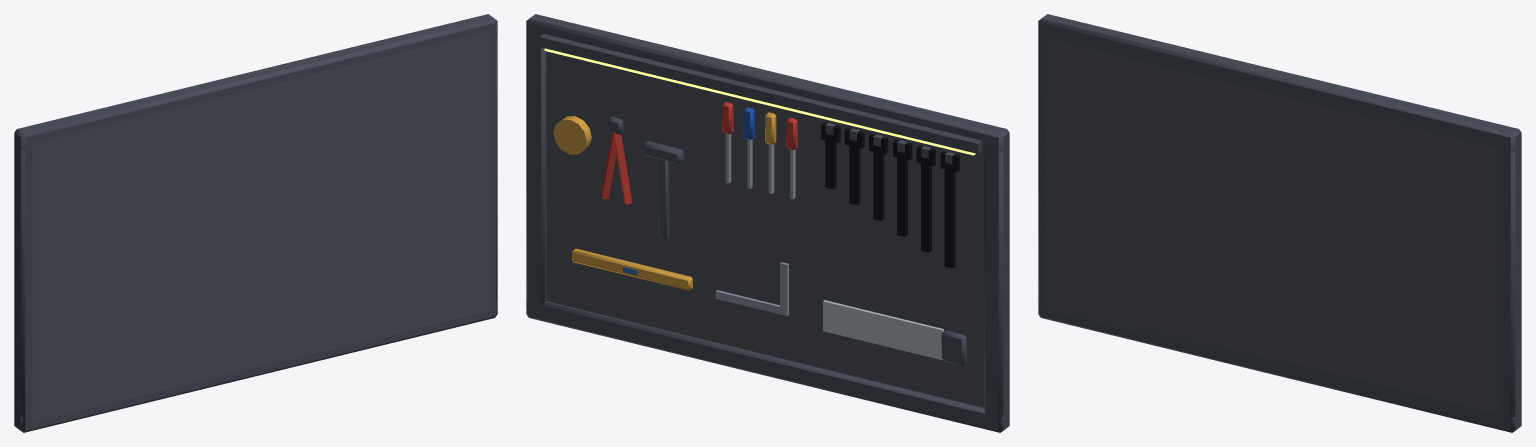
Rendered from pegboard.glb.
The picture shows the model from 3 angles, left to right: view 1: azimuth 30°, elevation 25°; view 2: azimuth 150°, elevation 25°; view 3: azimuth 330°, elevation 25°; orthographic projection.
Parts seen in each view (by area): view 1: body; view 2: body, lights; view 3: body.
Part boxes in pixels (x1,y1,x2,y2): body: (14,14,497,432); body: (526,14,1009,432); lights: (539,34,982,155); body: (1038,14,1521,432).
Size of the model in its own units: 2 by 1.2 by 0.1025.
